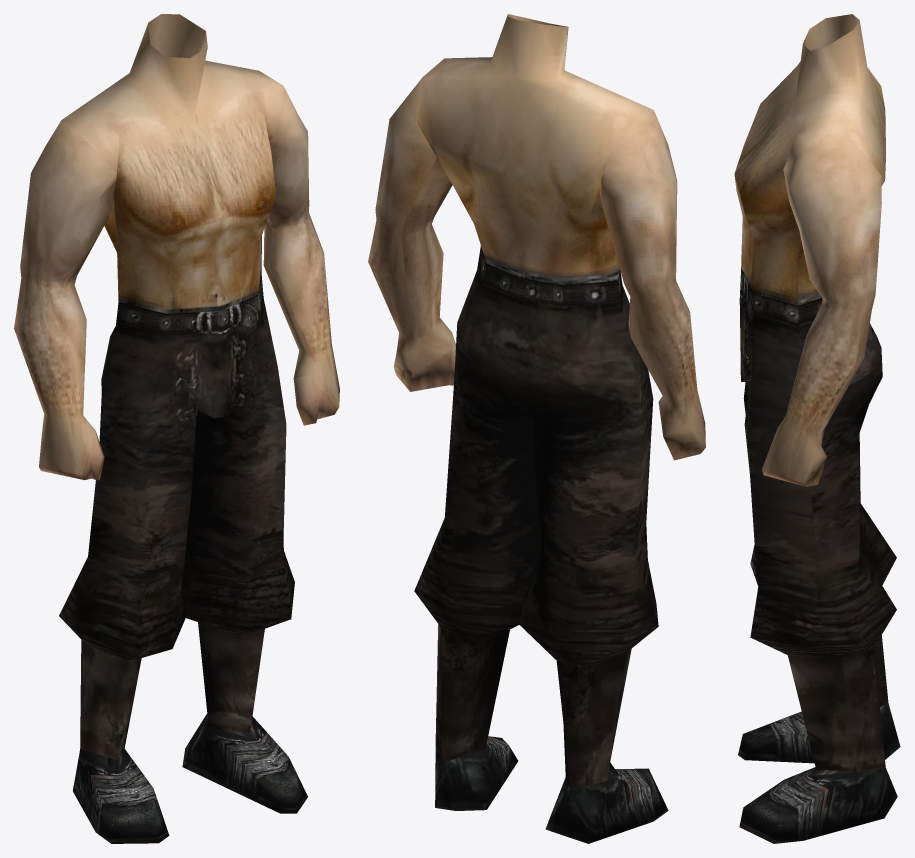
The model's file is KM_PANTS_07.glb.
3 views of the same model, side by side, from view 1: azimuth 30°, elevation 25°; view 2: azimuth 150°, elevation 25°; view 3: azimuth 270°, elevation 25° (orthographic). The views are drawn at different scales.
Visible parts, largest first — view 1: KM_PANTS_07; view 2: KM_PANTS_07; view 3: KM_PANTS_07.
Part boxes in pixels (bbox=[...]): KM_PANTS_07: bbox=[14, 14, 339, 843]; KM_PANTS_07: bbox=[368, 14, 705, 843]; KM_PANTS_07: bbox=[734, 14, 900, 843].
Bounding box in the file's own units: 0.6879 × 1.69 × 0.3299.
2 materials, 2 textured.
